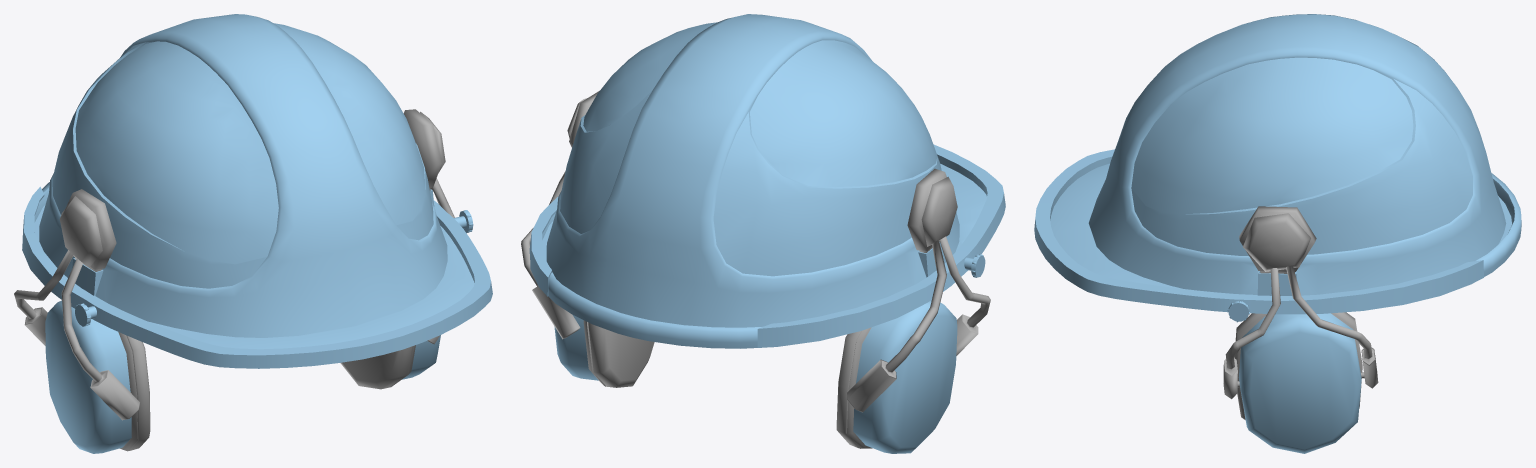
File: Helmet_Head.fbx
3 renders of one model, left to right at view 1: azimuth 30°, elevation 25°; view 2: azimuth 150°, elevation 25°; view 3: azimuth 270°, elevation 25°, orthographic. The views are drawn at different scales.
Visible parts, largest first — view 1: Objects_Headphones.001; view 2: Objects_Headphones.001; view 3: Objects_Headphones.001.
Part boxes in pixels (bbox=[...]): Objects_Headphones.001: bbox=[14, 14, 492, 453]; Objects_Headphones.001: bbox=[521, 14, 1005, 453]; Objects_Headphones.001: bbox=[1034, 14, 1521, 453].
Size of the model in its own units: 0.3184 by 0.2865 by 0.3546.
